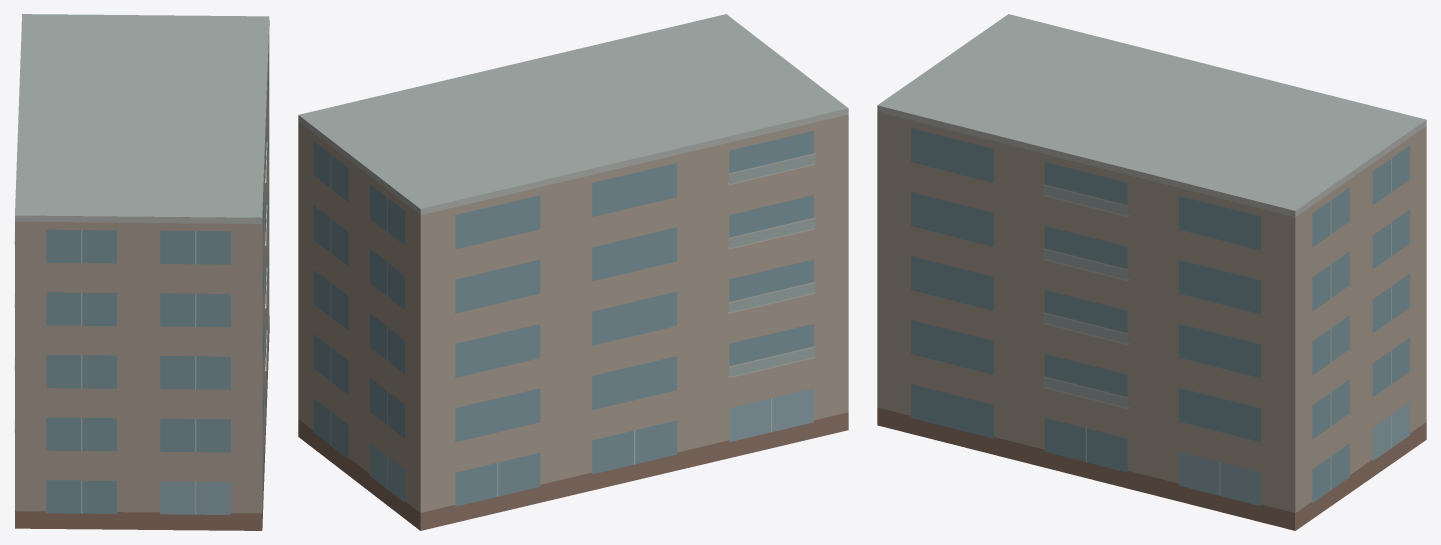
File: survey-upis-32963211.glb
The picture shows the model from 3 angles, left to right: view 1: azimuth 30°, elevation 25°; view 2: azimuth 150°, elevation 25°; view 3: azimuth 270°, elevation 25°; orthographic projection. The views are drawn at different scales.
Visible parts, largest first — view 1: survey-upis-32963211.tmp; view 2: survey-upis-32963211.tmp; view 3: survey-upis-32963211.tmp.
Part boxes in pixels (<box>): survey-upis-32963211.tmp: <box>14,14,269,530</box>; survey-upis-32963211.tmp: <box>298,14,848,530</box>; survey-upis-32963211.tmp: <box>877,14,1426,530</box>.
Bounding box in the file's own units: 16.51 × 12.5 × 19.46.
